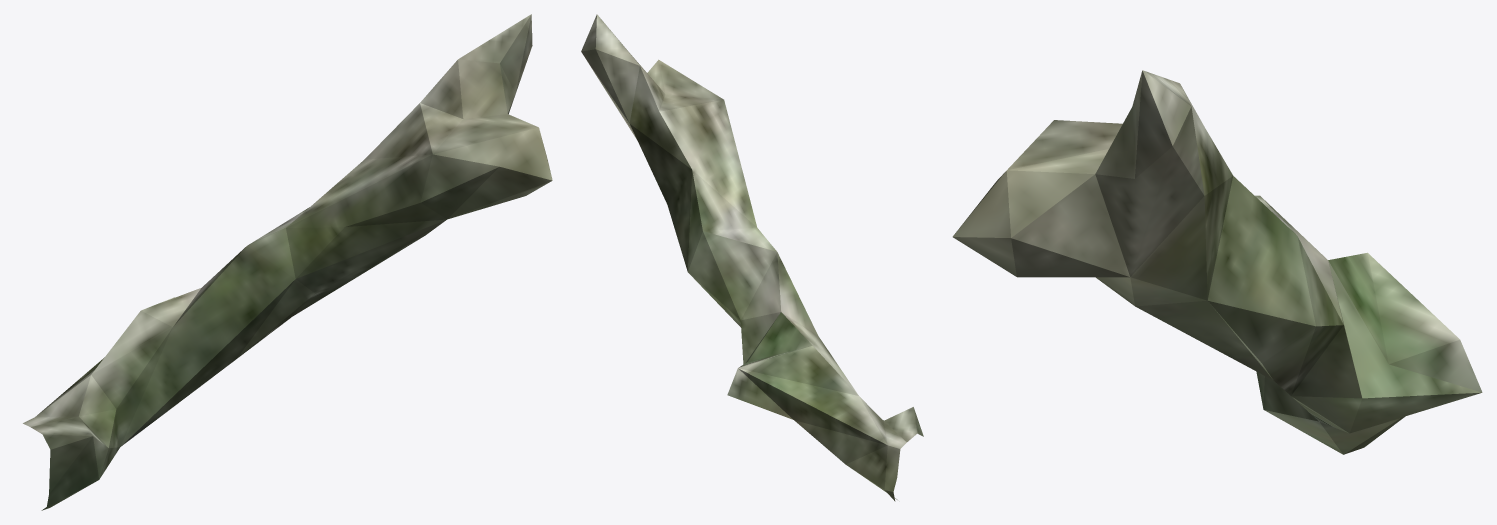
3 views of the same model, side by side, from view 1: azimuth 30°, elevation 25°; view 2: azimuth 150°, elevation 25°; view 3: azimuth 270°, elevation 25° (orthographic). The views are drawn at different scales.
Bounding box in the file's own units: 1.86 × 1.74 × 1.14.
1 material, 1 textured.
